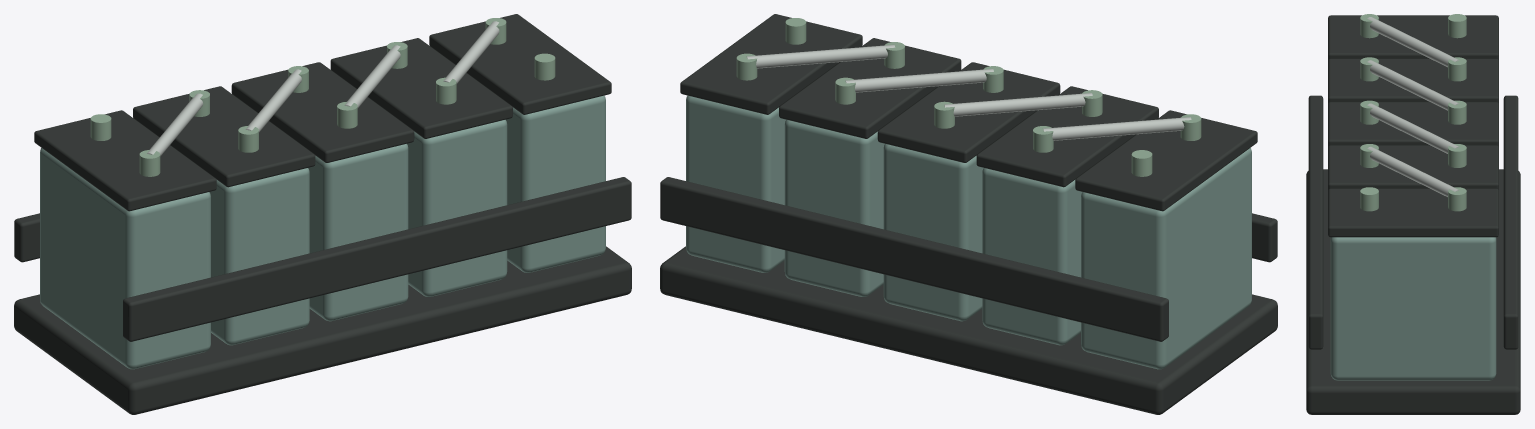
Rendered from abandoned-telephone-exchange-battery-cell-bank-d25c2656__32008.glb.
The picture shows the model from 3 angles, left to right: view 1: azimuth 30°, elevation 25°; view 2: azimuth 150°, elevation 25°; view 3: azimuth 270°, elevation 25°; orthographic projection. The views are drawn at different scales.
Parts seen in each view (by area): view 1: battery-cell-bank; view 2: battery-cell-bank; view 3: battery-cell-bank.
Part boxes in pixels (bbox=[...]): battery-cell-bank: bbox=[14, 14, 631, 414]; battery-cell-bank: bbox=[660, 14, 1277, 414]; battery-cell-bank: bbox=[1306, 14, 1520, 414].
Bounding box in the file's own units: 1.07 × 0.4589 × 0.44.
